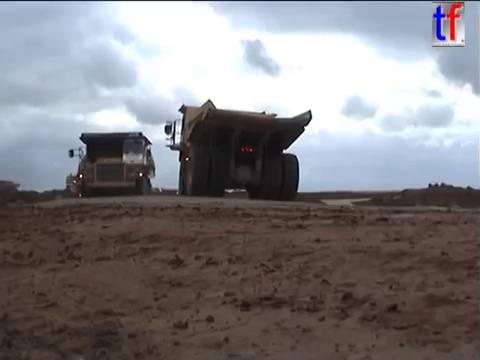excavator: (64, 153, 100, 198)
truck: (161, 96, 316, 202), (66, 128, 158, 201)
